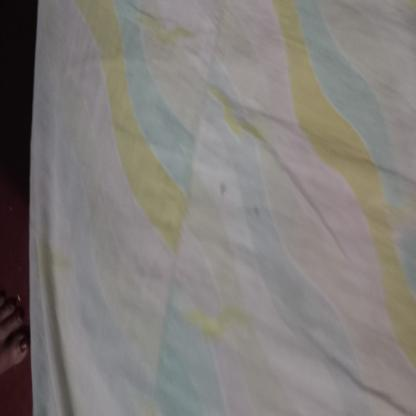spot: (251, 187, 263, 232), (220, 166, 233, 204)
